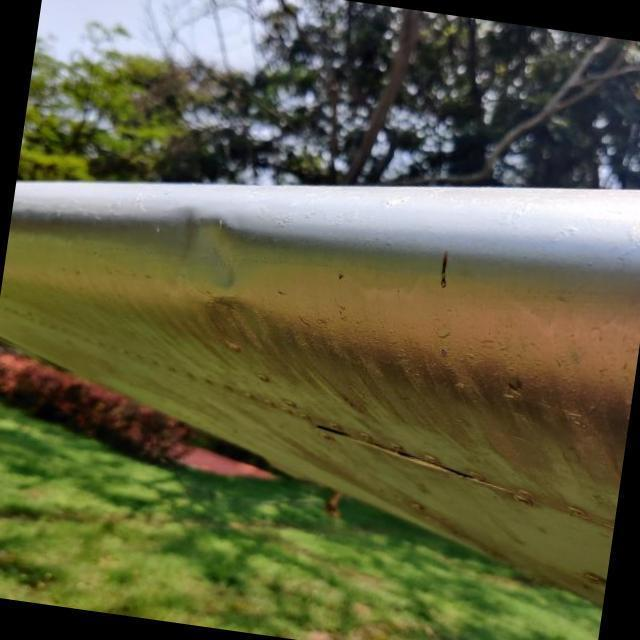dent: (154, 209, 262, 297)
